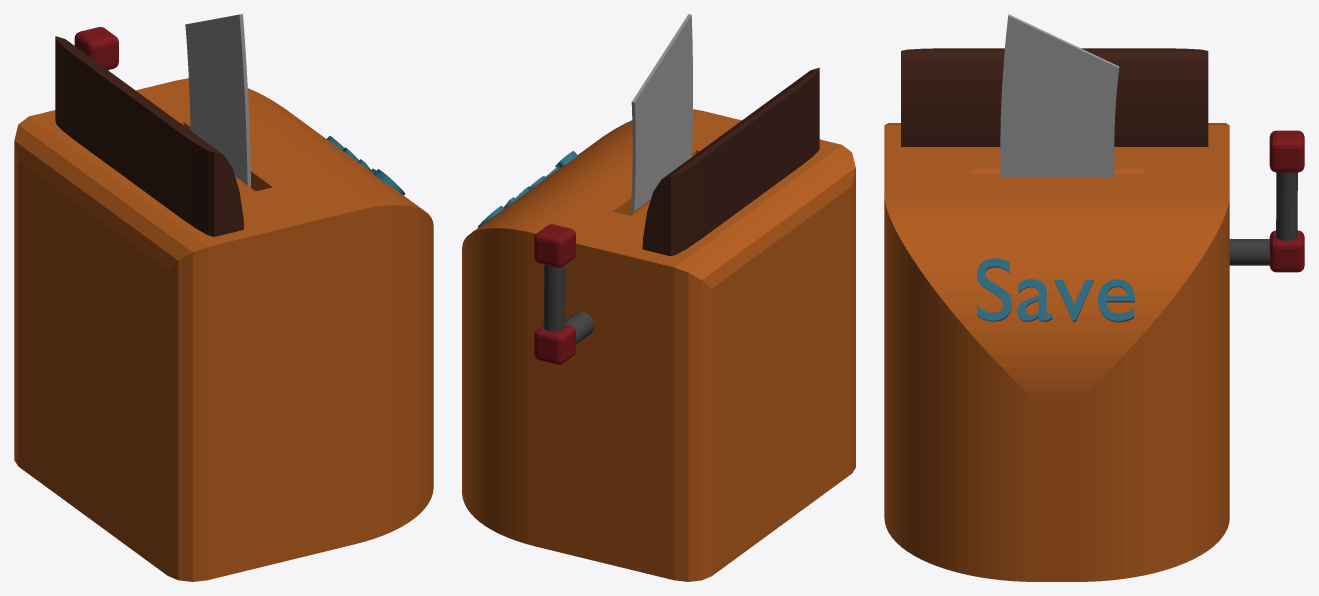
Rendered from PunchCardMachine(1).fbx.
3 views of the same model, side by side, from view 1: azimuth 30°, elevation 25°; view 2: azimuth 150°, elevation 25°; view 3: azimuth 270°, elevation 25° (orthographic). The views are drawn at different scales.
Visible parts, largest first — view 1: Punchcardmachine, PunchCard; view 2: Punchcardmachine, PunchCard; view 3: Punchcardmachine, PunchCard.
Boxes of the visible parts, x1,y1,x2,y2 form: Punchcardmachine: (14, 27, 433, 581); PunchCard: (185, 14, 250, 187); Punchcardmachine: (462, 67, 855, 581); PunchCard: (631, 14, 692, 213); Punchcardmachine: (884, 48, 1304, 581); PunchCard: (1000, 14, 1119, 177).
Size of the model in its own units: 272 by 417 by 331.
